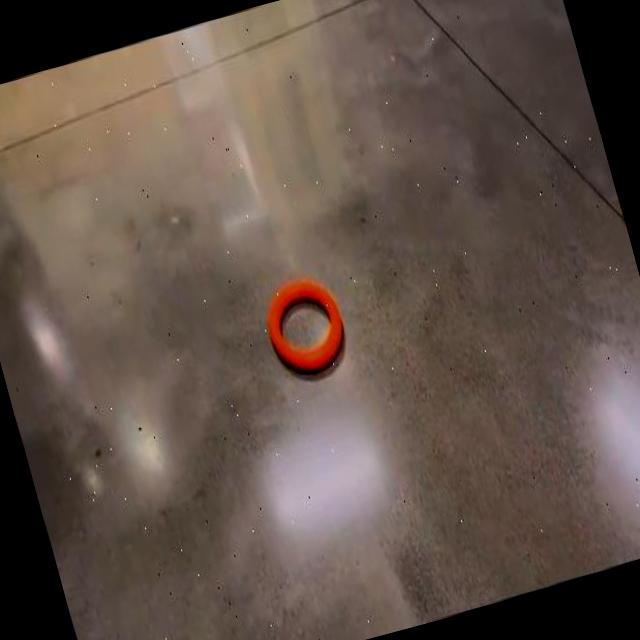note: (268, 278, 342, 370)
